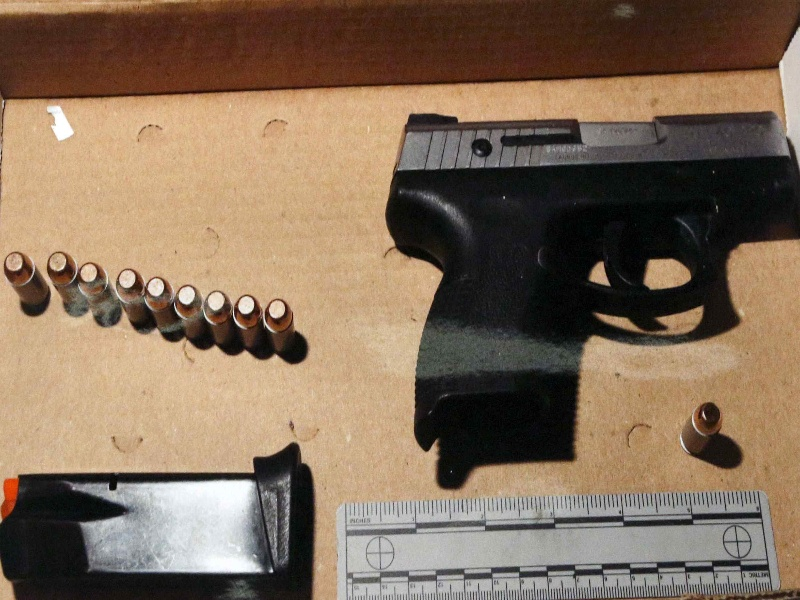gun: (372, 100, 790, 441)
